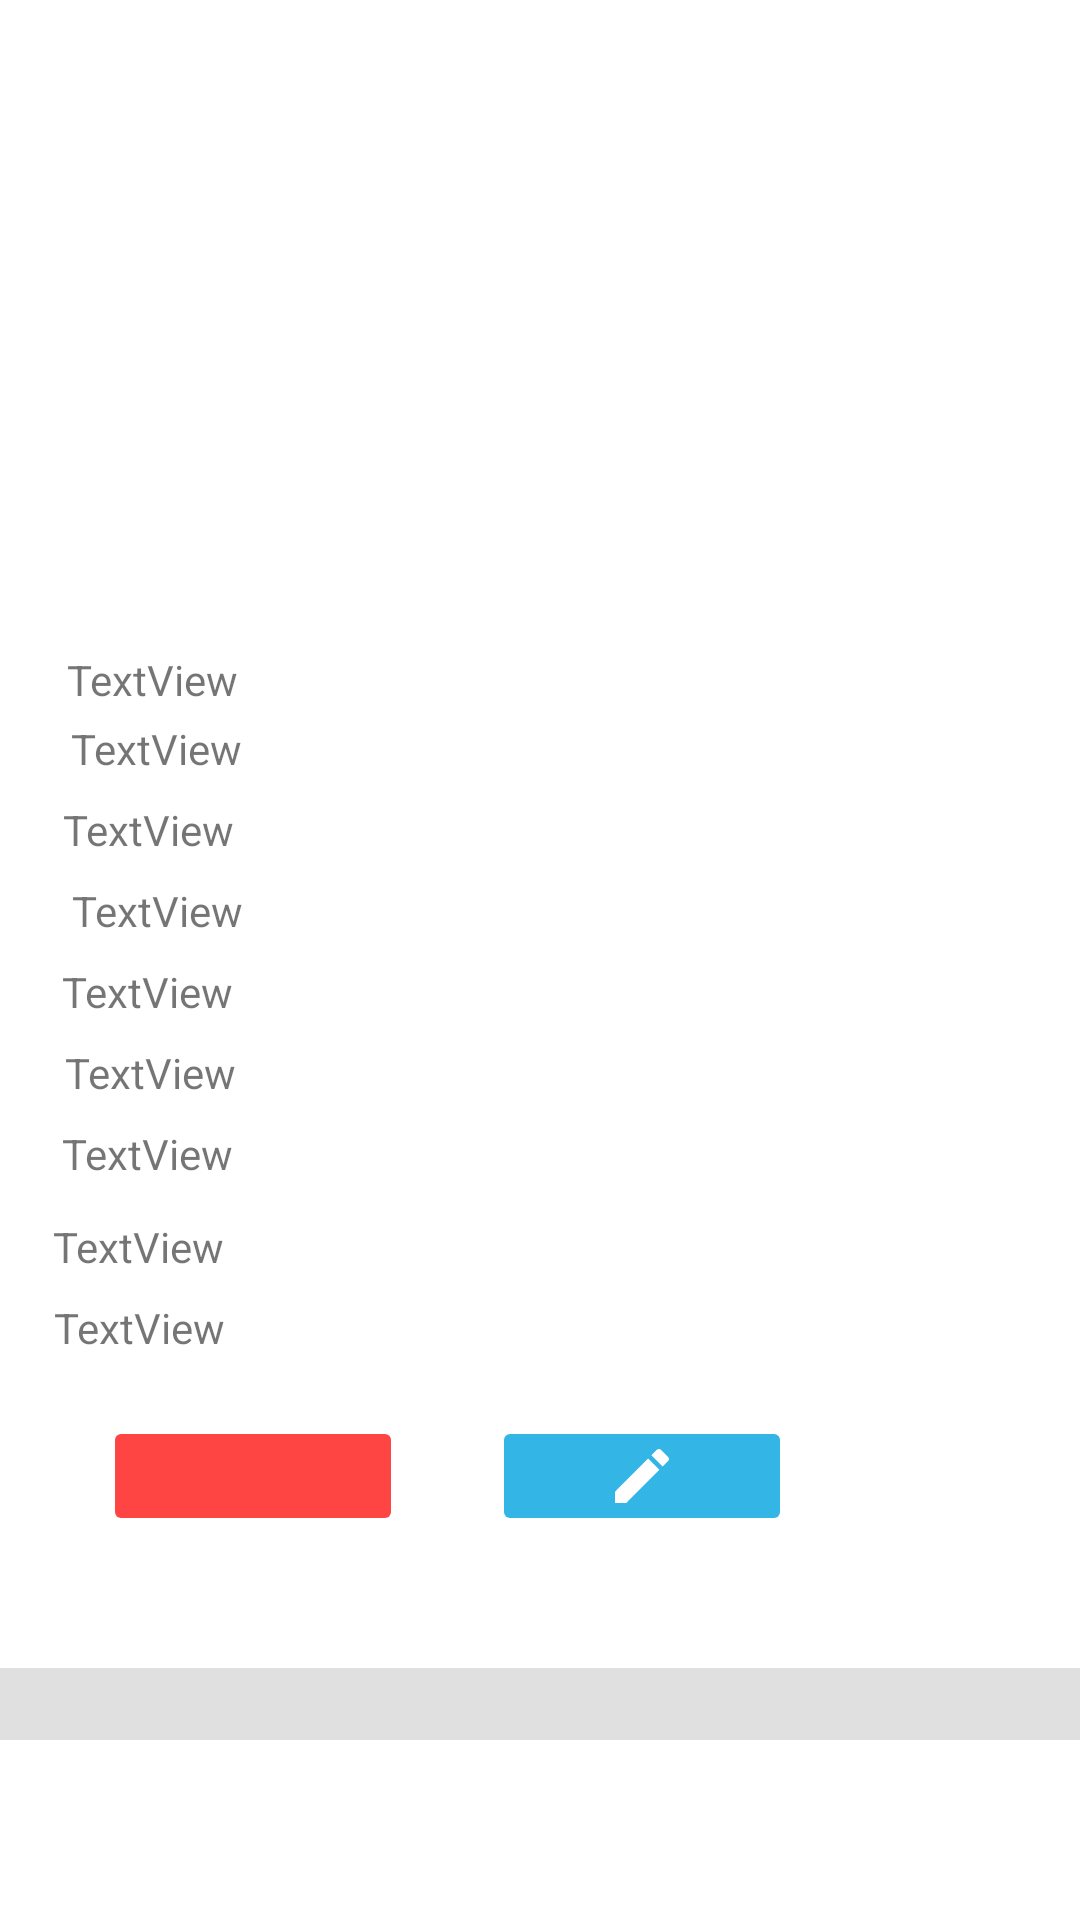

Icon bounding boxes for this 1080x1920 phone screenshot, format (x1, y1, x2, y2):
edit: (504, 1434, 780, 1518)
